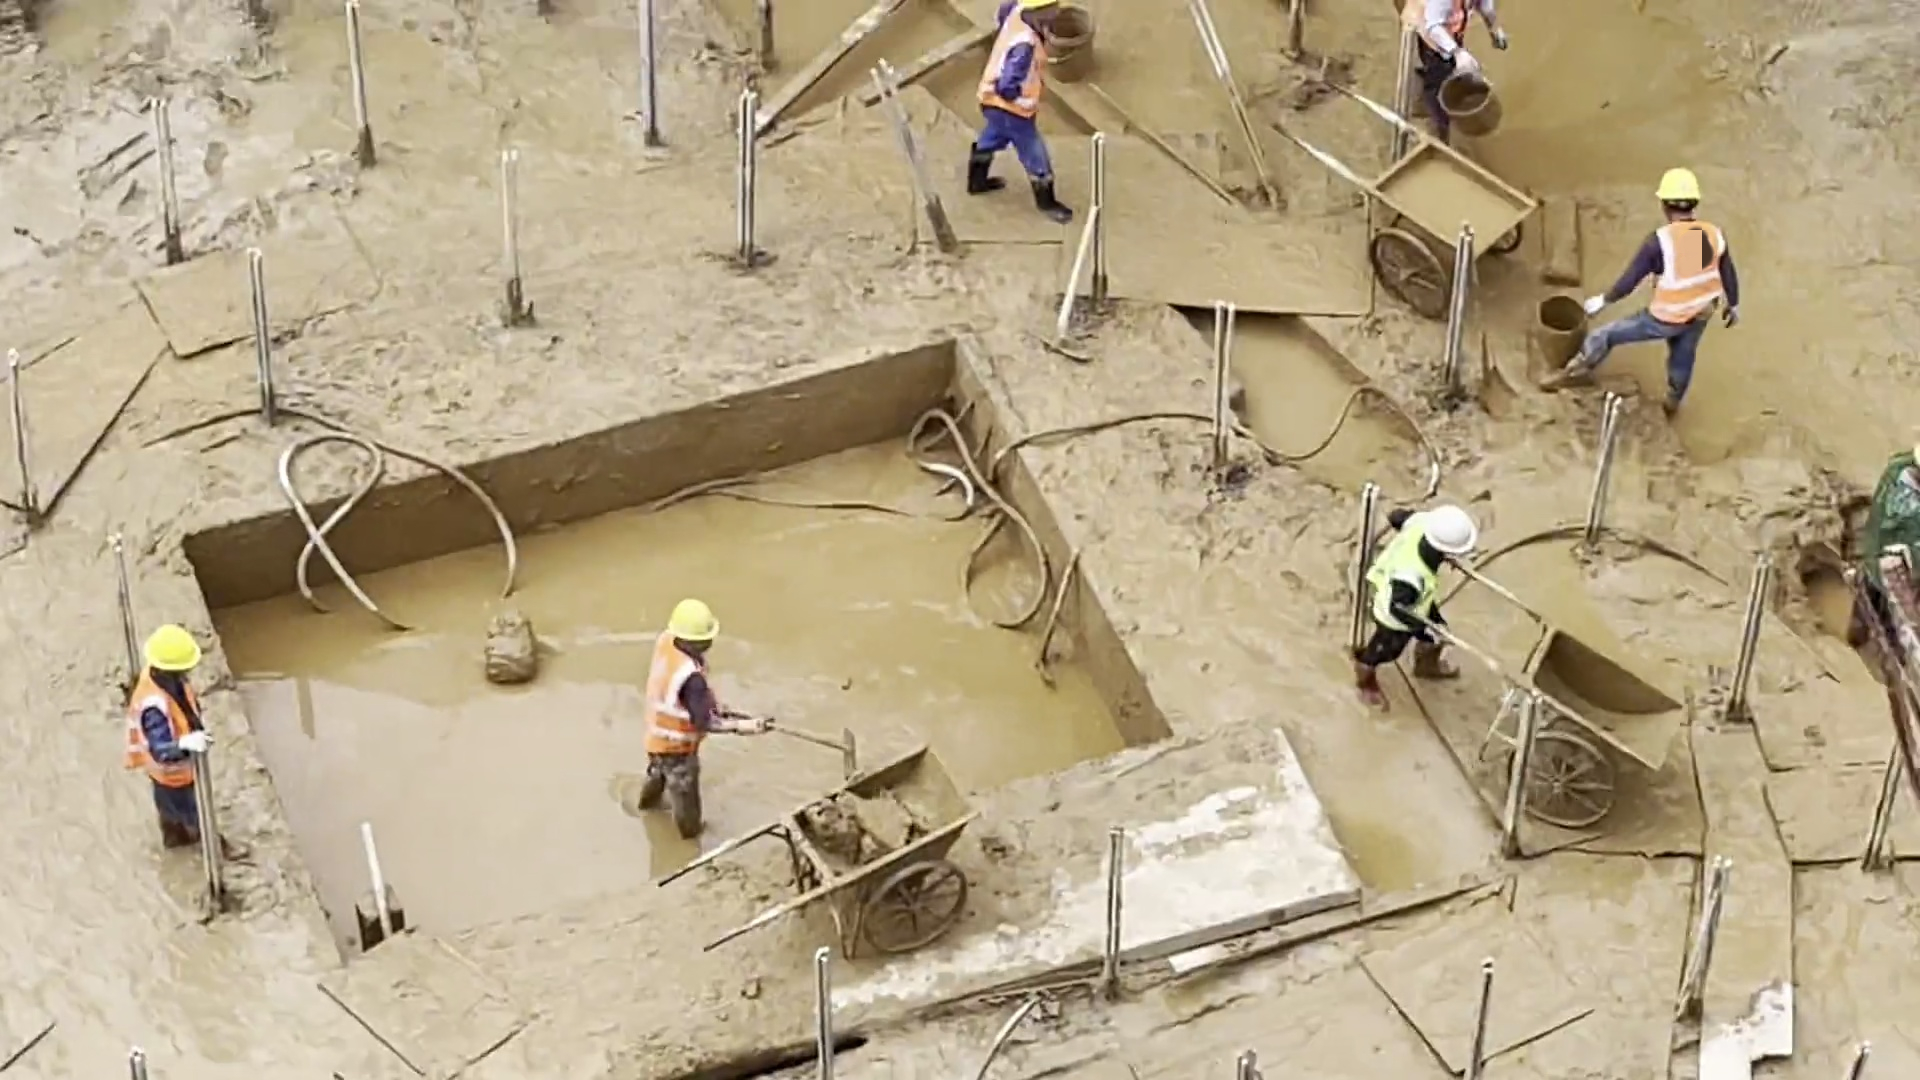handcart: (657, 750, 971, 968), (1438, 561, 1680, 832), (1275, 79, 1540, 314)
helmet: (138, 623, 201, 674), (1422, 504, 1479, 558), (667, 597, 722, 642), (1655, 165, 1701, 204)
person: (1544, 165, 1738, 423), (635, 594, 775, 834), (124, 623, 249, 856), (1348, 497, 1475, 714), (960, 1, 1075, 232), (1401, 1, 1504, 143)
vest: (123, 669, 203, 785), (1646, 219, 1728, 321), (646, 628, 710, 754), (1366, 523, 1440, 629), (979, 9, 1048, 119)
